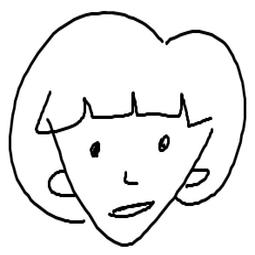ear: (44, 166, 78, 200), (179, 163, 215, 190)
open_mouth: (108, 198, 155, 220)
pointy_nose: (119, 167, 143, 189)
small_eye: (83, 139, 106, 161), (158, 136, 174, 155)
